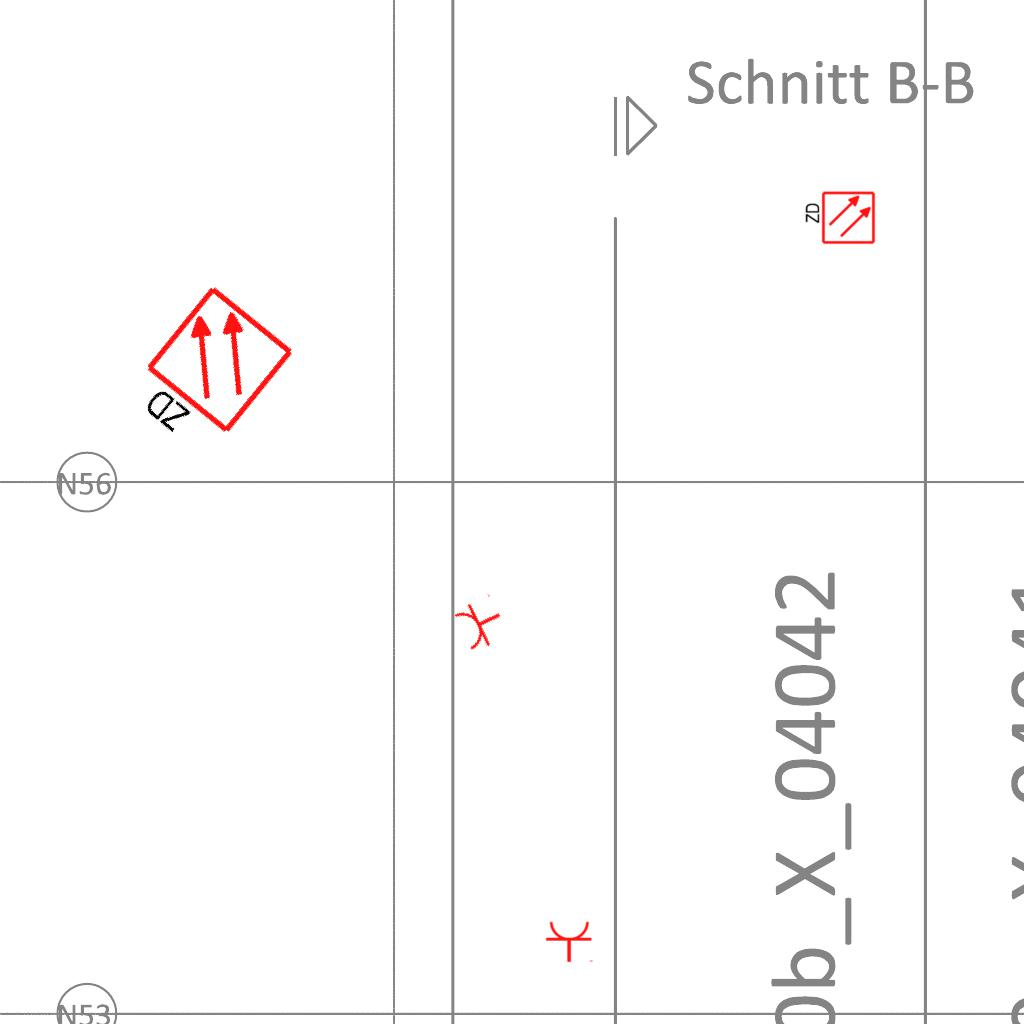Schukosteckdose_einfach: (450, 591, 511, 655), (545, 920, 595, 963)
ZD_Melder_in_Zwischendecke_mit_Revisionsoeffnung_mind_40_x_40_cm: (117, 281, 301, 470), (802, 190, 876, 247)
